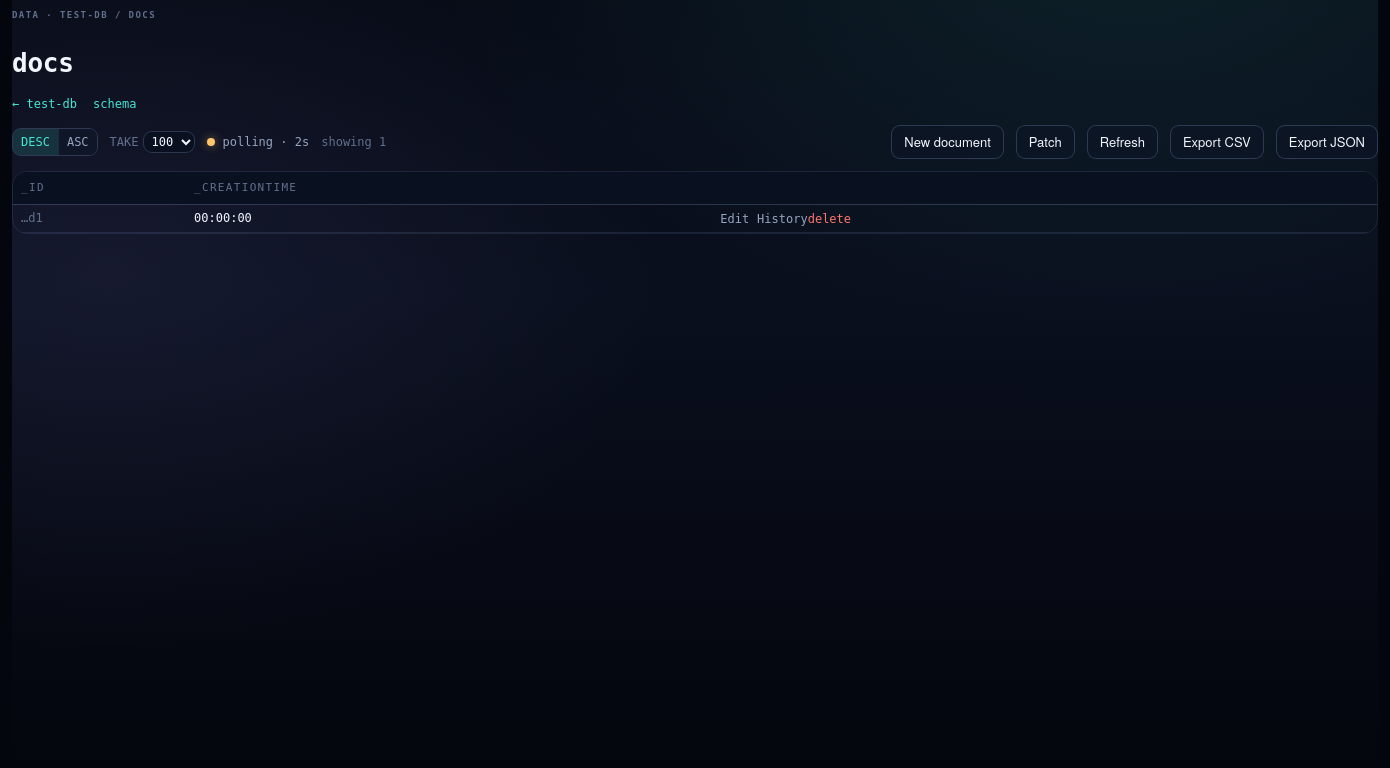
Test case: document history › surfaces expired retention without inventing versions
This screenshot has width=1390, height=768.
Click the button "History" at {"x": 782, "y": 219}, box [757,210,808,228]
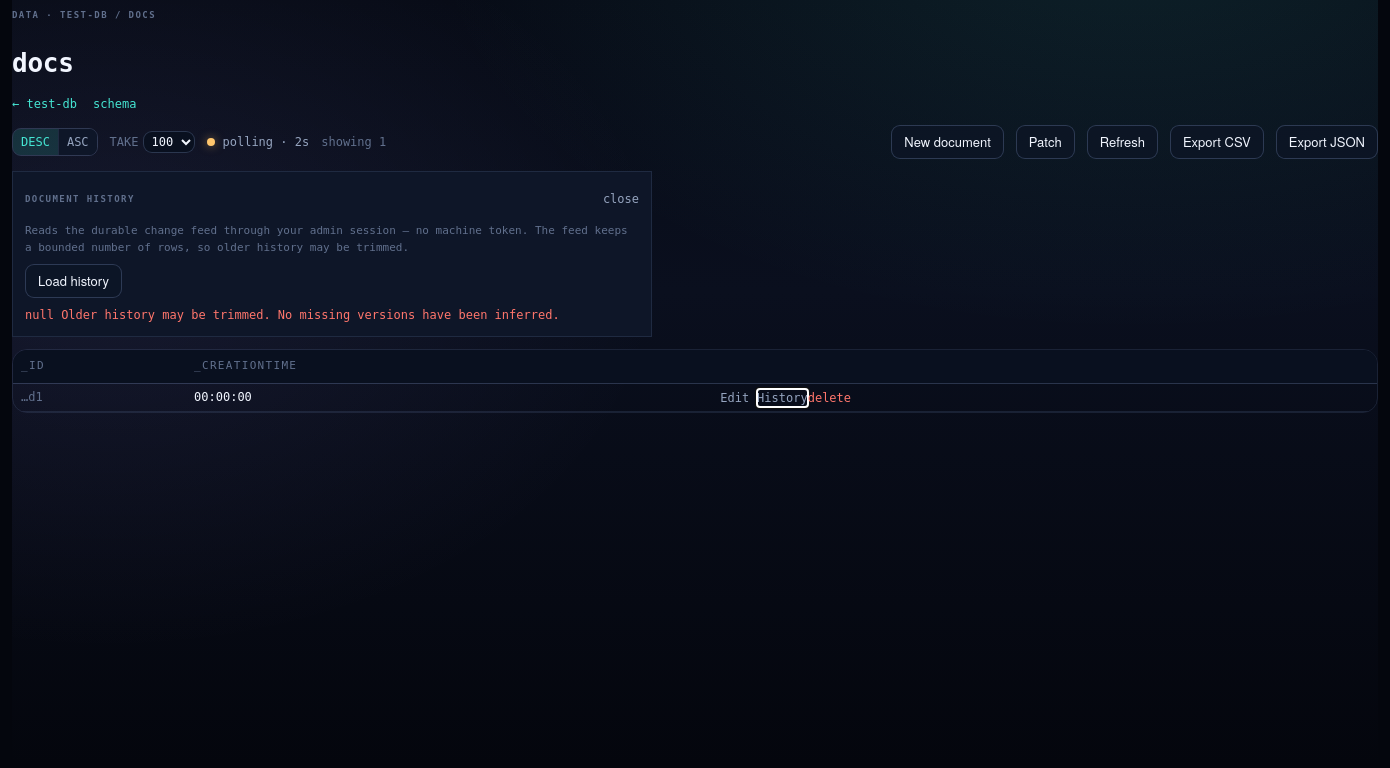
Check: the text "No missing versions have been inferred" is shown, box [54,308,560,322]
